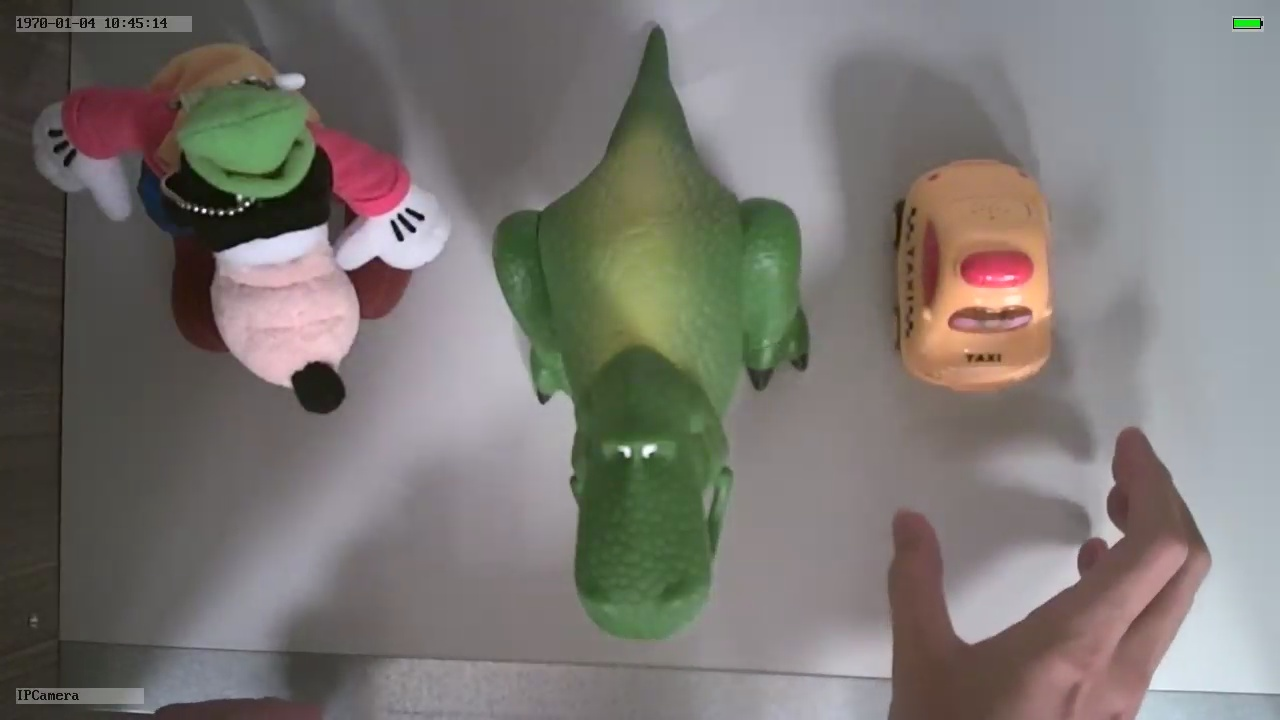car: (885, 149, 1056, 396)
goofy: (30, 34, 455, 418)
rex: (491, 91, 815, 641)
